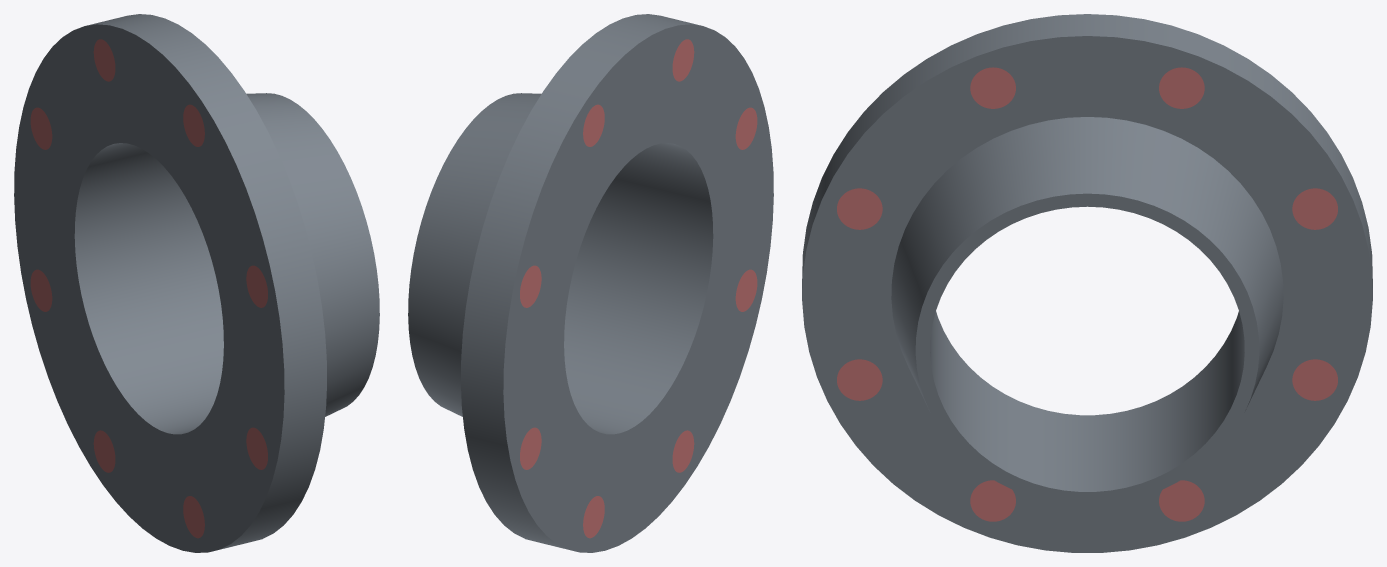
The model's file is step_59.glb.
The picture shows the model from 3 angles, left to right: view 1: azimuth 30°, elevation 25°; view 2: azimuth 150°, elevation 25°; view 3: azimuth 270°, elevation 25°; orthographic projection. The views are drawn at different scales.
Visible parts, largest first — view 1: part__6" flange, ball valve outlet, removed__6" flange, ball valve outlet; view 2: part__6" flange, ball valve outlet, removed__6" flange, ball valve outlet; view 3: part__6" flange, ball valve outlet, removed__6" flange, ball valve outlet.
Boxes of the visible parts, left/top/right/bottom form: part__6" flange, ball valve outlet: left=14, top=14, right=379, bottom=552; removed__6" flange, ball valve outlet: left=30, top=39, right=267, bottom=538; part__6" flange, ball valve outlet: left=408, top=14, right=773, bottom=552; removed__6" flange, ball valve outlet: left=520, top=39, right=757, bottom=538; part__6" flange, ball valve outlet: left=802, top=14, right=1372, bottom=552; removed__6" flange, ball valve outlet: left=837, top=67, right=1337, bottom=521.
Size of the model in its own units: 88.9 by 279 by 279.
